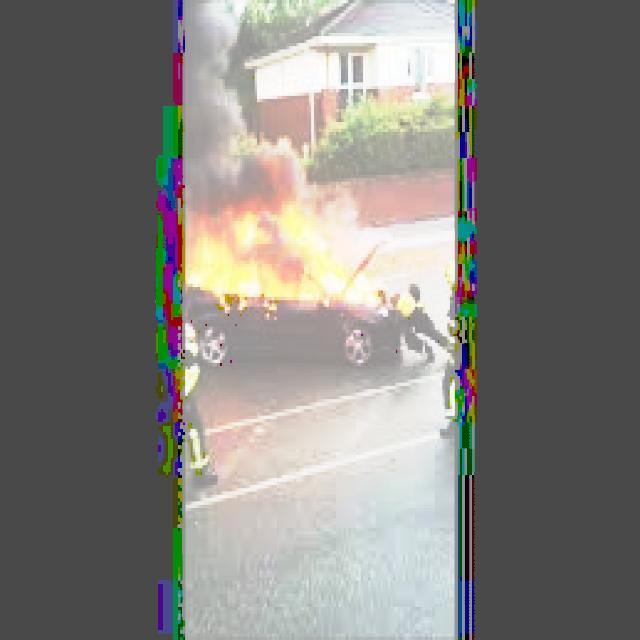api: (179, 169, 411, 321)
